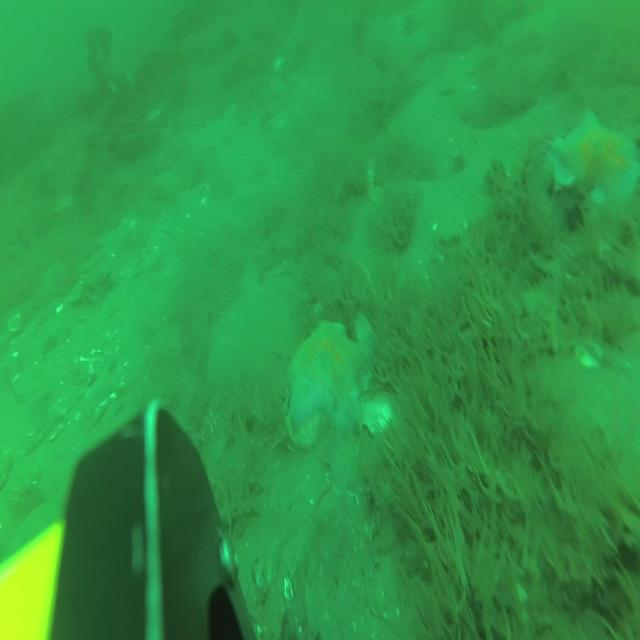scallop: (21, 420, 48, 457)
starfish: (282, 311, 374, 432), (549, 102, 640, 214)
